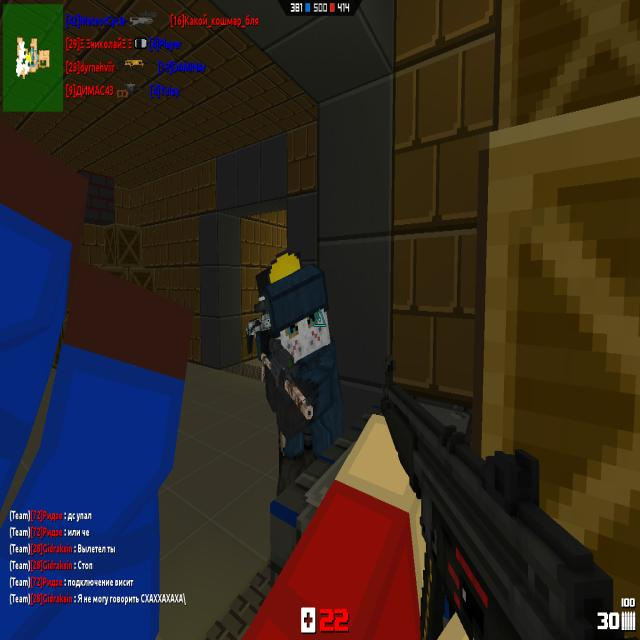enemy: (266, 263, 344, 492), (255, 250, 302, 361)
